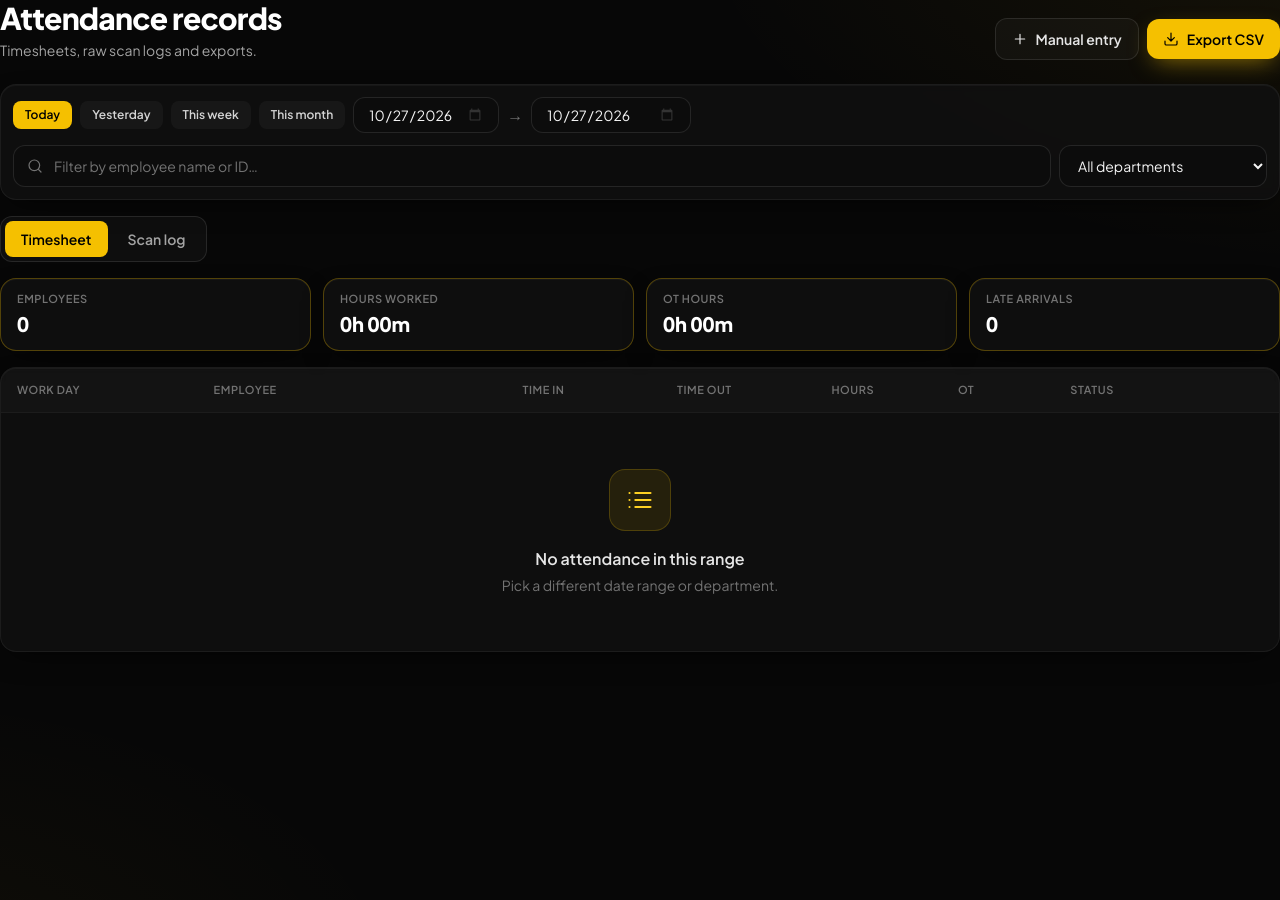
Test: Records page › asks for an employee and a reason before saving a manual entry
This screenshot has width=1280, height=900.
Click the button "Manual entry".
click(1067, 39)  # box x1=994 y1=18 x2=1139 y2=60
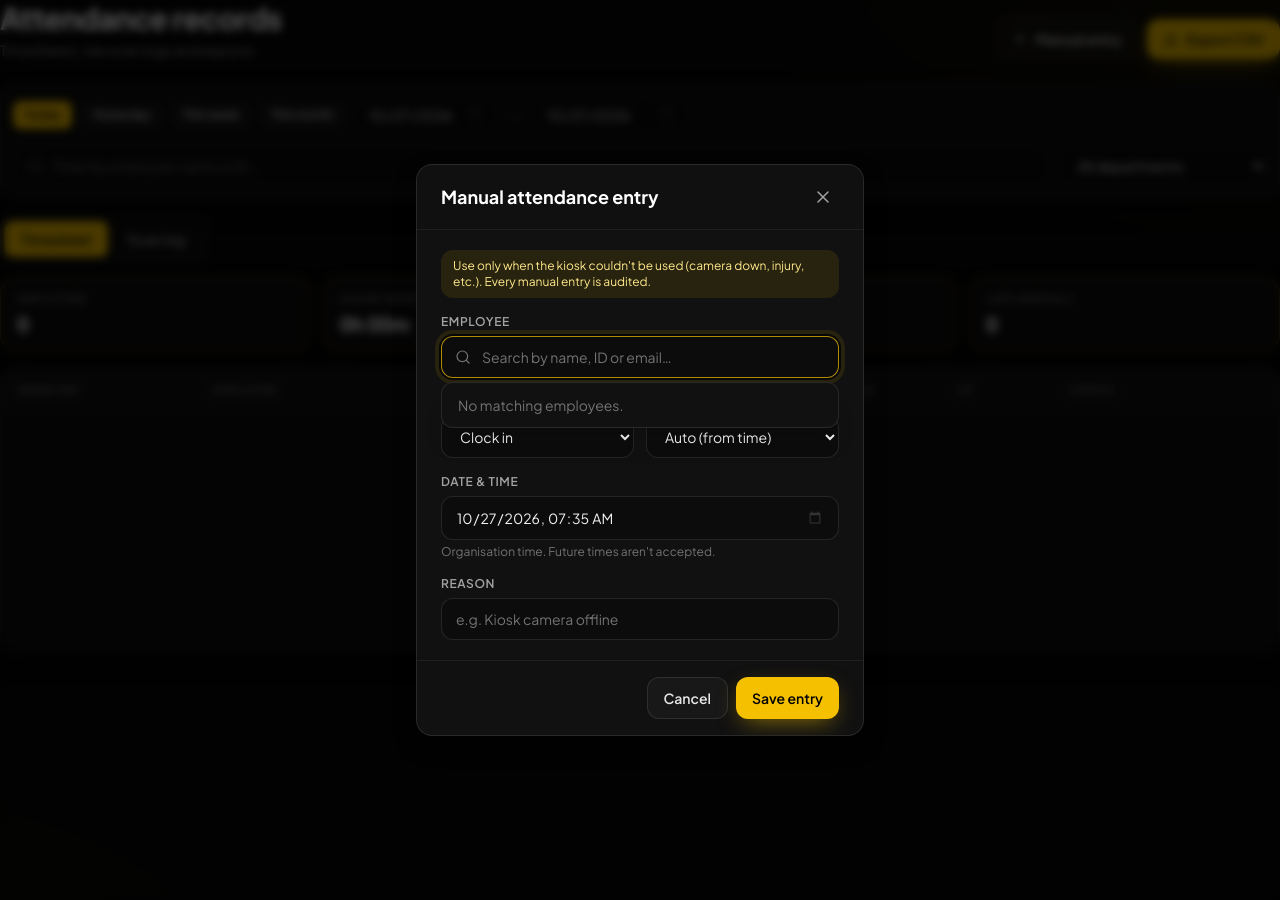
Click the button "Save entry".
click(788, 698)  # box x1=736 y1=677 x2=839 y2=719
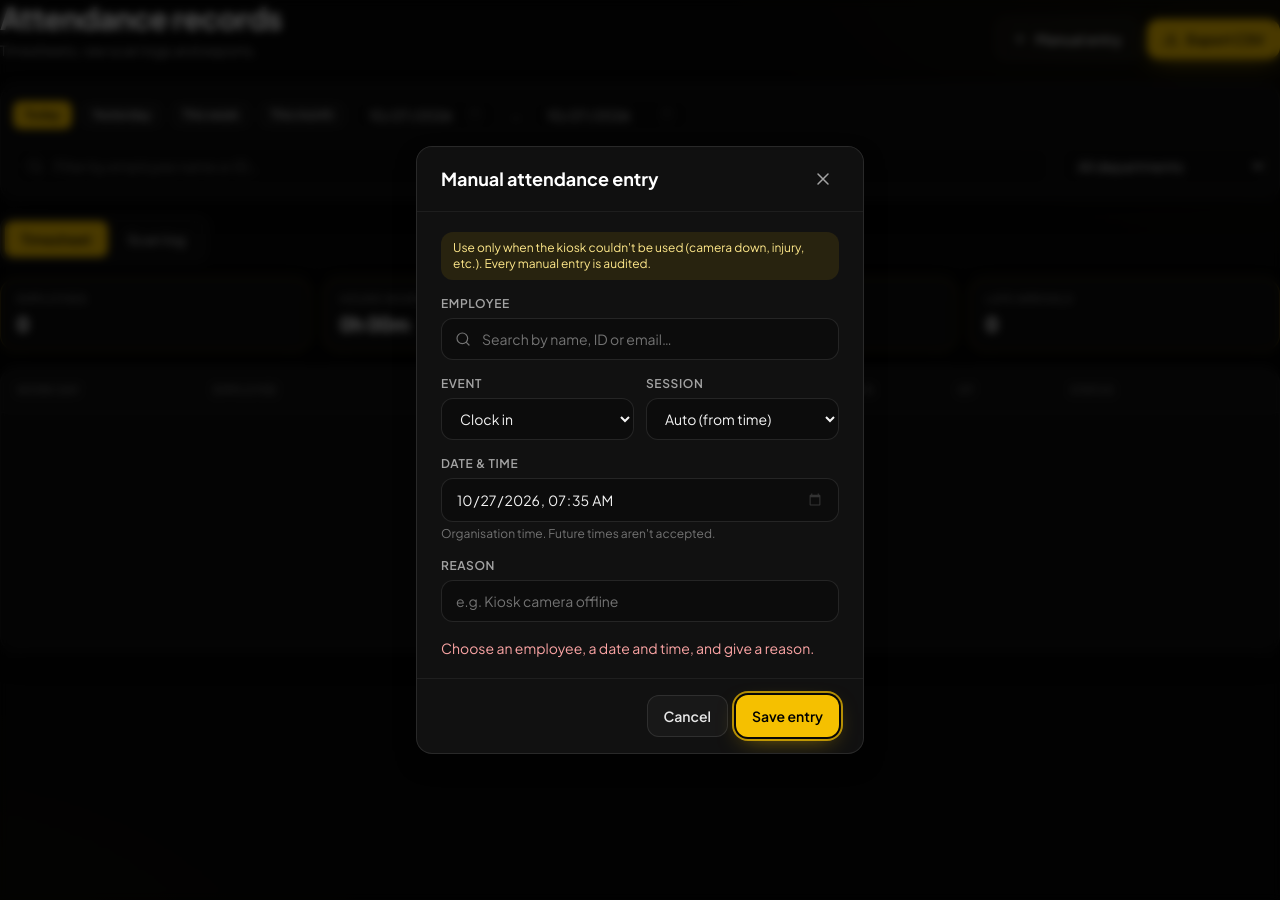
Result: the message shows "Choose an employee" at x1=441 y1=639 x2=814 y2=657
